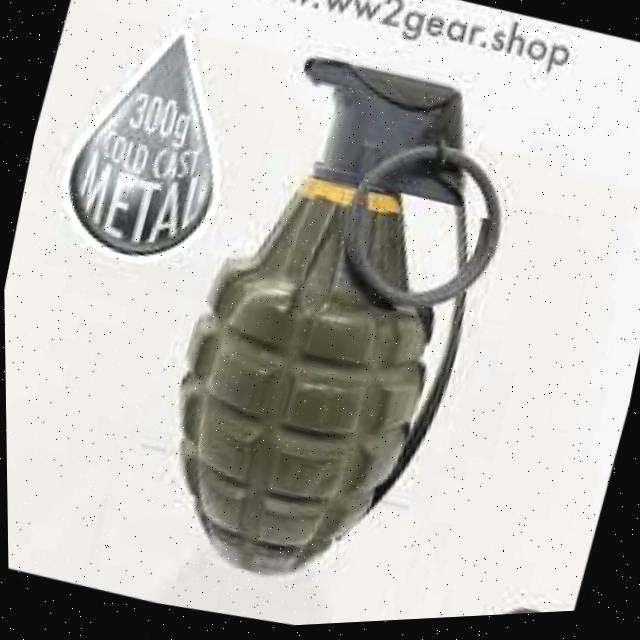grenade: (130, 28, 544, 631)
